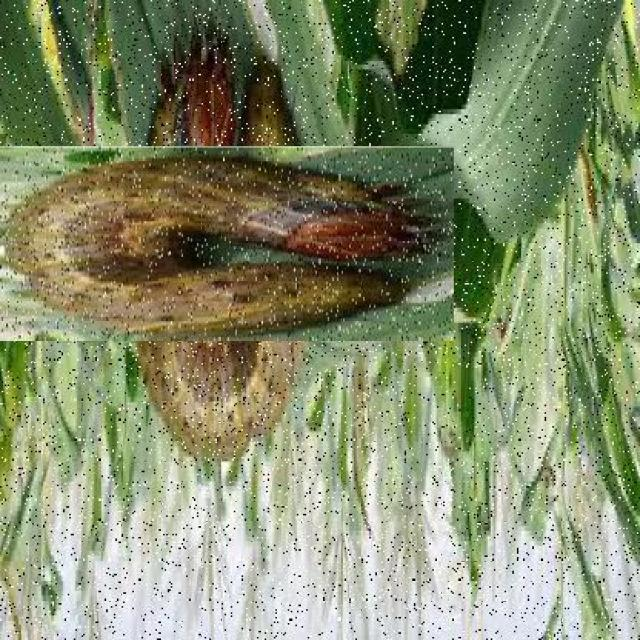Plaga: (53, 79, 387, 413)
